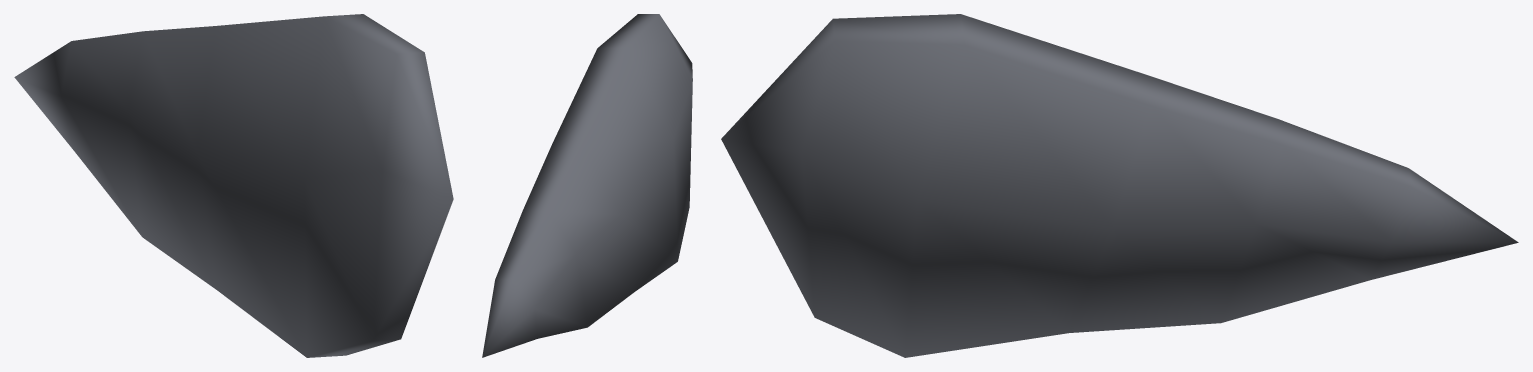
Rendered from Char_FL_FrontFin.FBX.
The picture shows the model from 3 angles, left to right: view 1: azimuth 30°, elevation 25°; view 2: azimuth 150°, elevation 25°; view 3: azimuth 270°, elevation 25°; orthographic projection. The views are drawn at different scales.
Visible parts, largest first — view 1: Cylinder007; view 2: Cylinder007; view 3: Cylinder007.
Boxes of the visible parts, box(x1,y1,x2,y2) form: Cylinder007: box(14, 14, 453, 357); Cylinder007: box(482, 14, 692, 357); Cylinder007: box(721, 14, 1518, 357).
Bounding box in the file's own units: 3.3 × 9.31 × 19.32.
